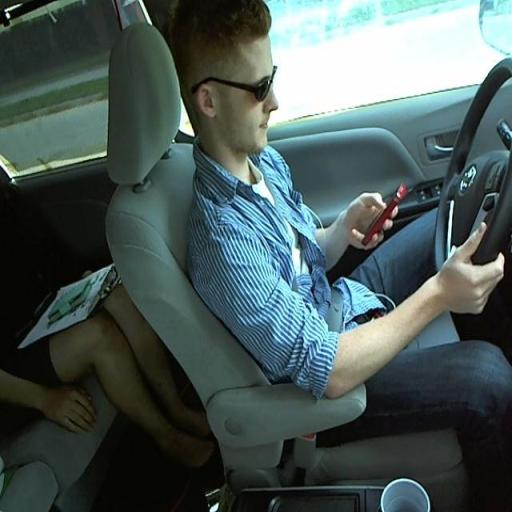texting_phone: (168, 11, 506, 406)
